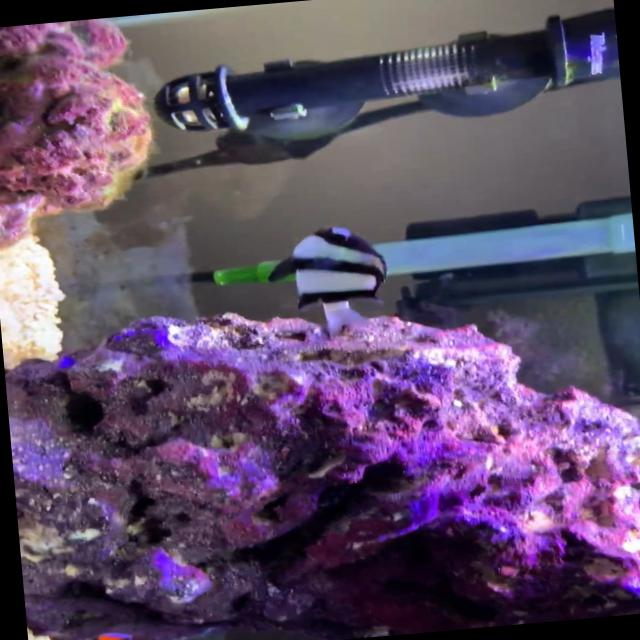ThreeStripedDamselfish: (266, 226, 385, 334)
